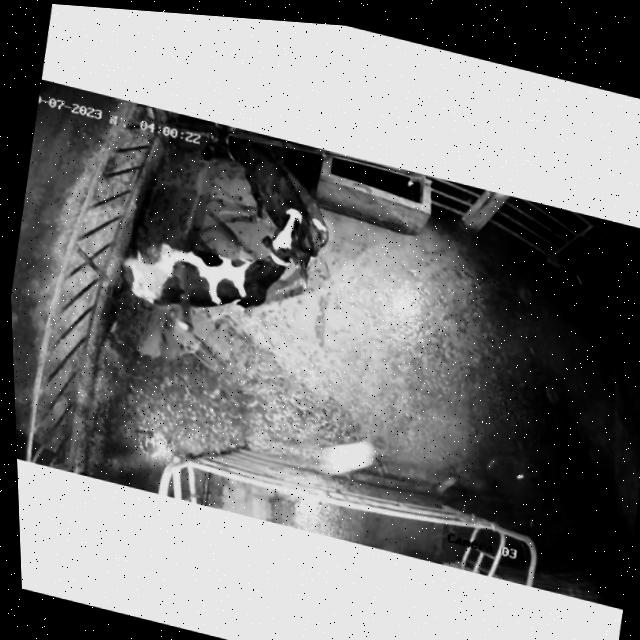propping: (236, 171, 339, 320)
